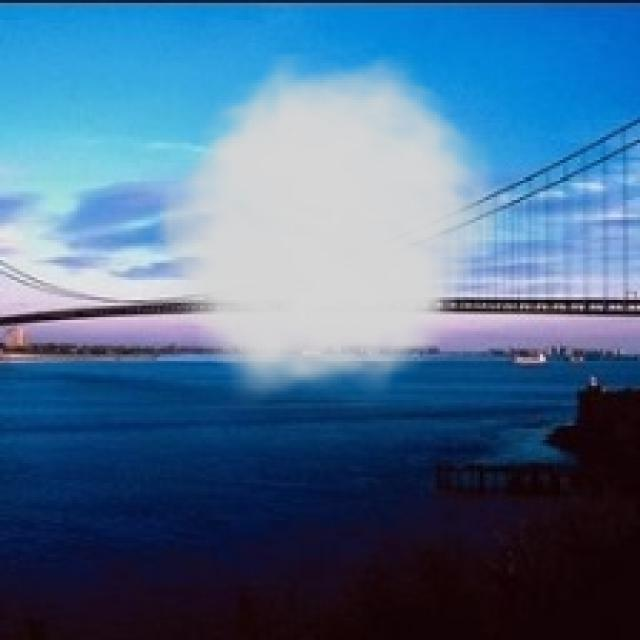smoke: (140, 54, 514, 409)
